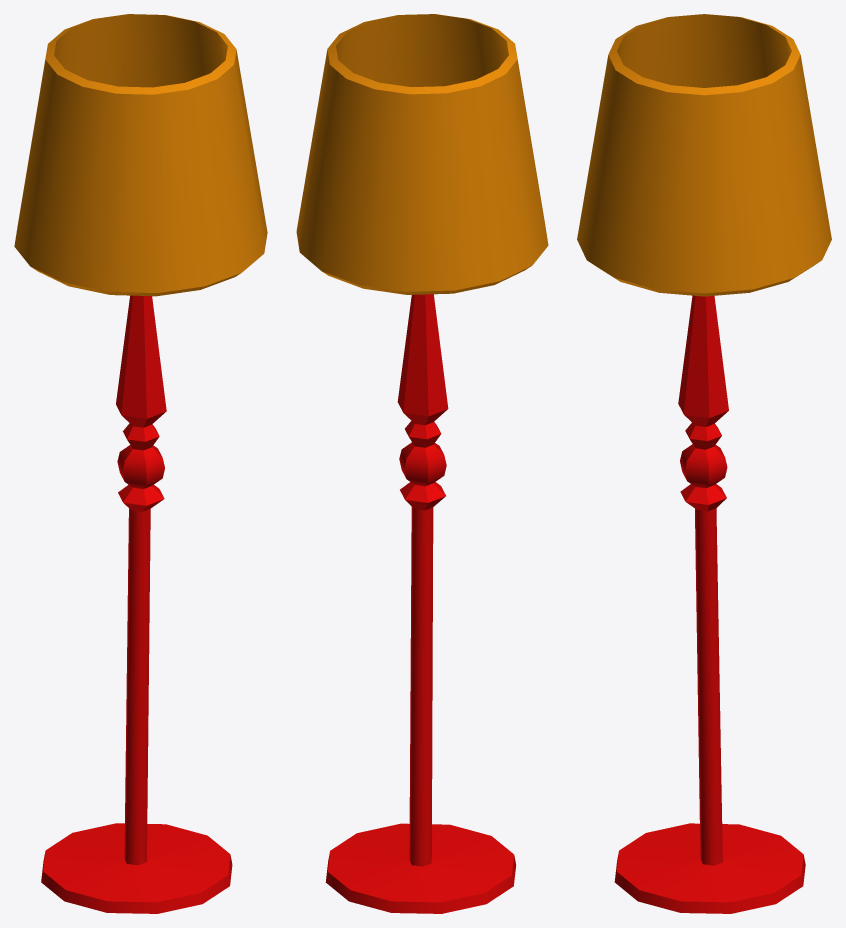
The model's file is LR_FloorLamp.fbx.
3 renders of one model, left to right at view 1: azimuth 30°, elevation 25°; view 2: azimuth 150°, elevation 25°; view 3: azimuth 270°, elevation 25°, orthographic.
Parts seen in each view (by area): view 1: LR_FloorLamp; view 2: LR_FloorLamp; view 3: LR_FloorLamp.
Part boxes in pixels (x1,y1,x2,y2): LR_FloorLamp: (14, 14, 267, 913); LR_FloorLamp: (296, 14, 548, 913); LR_FloorLamp: (577, 14, 831, 913).
Bounding box in the file's own units: 64.25 × 229 × 64.25.
